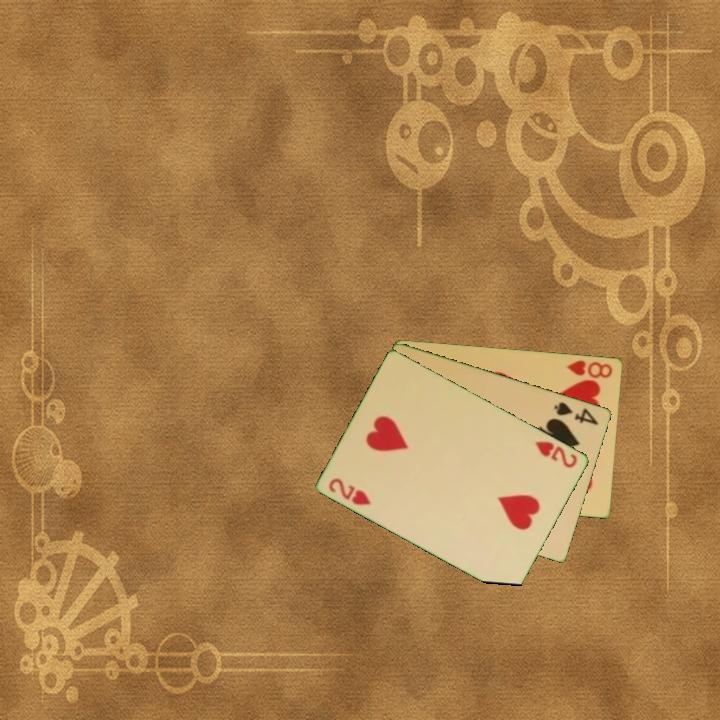2h: (325, 474, 375, 508), (532, 437, 581, 471)
4s: (551, 398, 601, 428)
8h: (564, 356, 615, 381)
